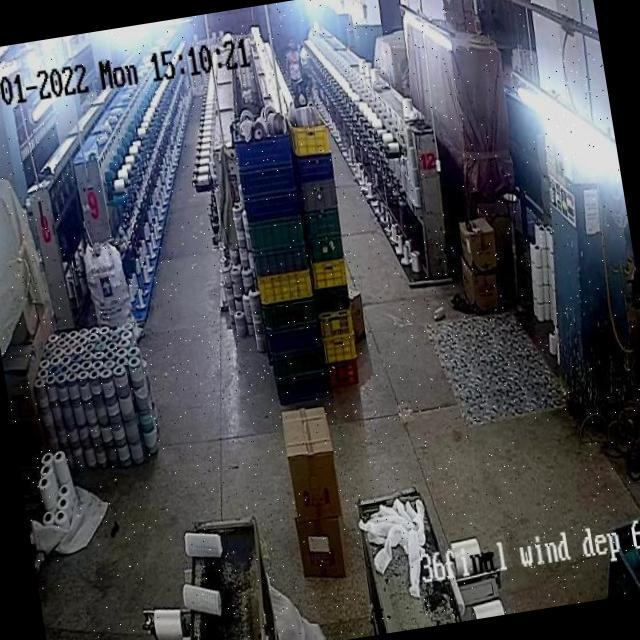person: (282, 34, 302, 78), (304, 76, 320, 102)
